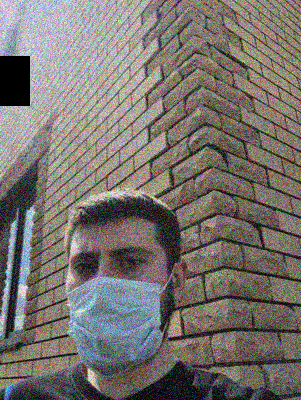with_mask: (67, 235, 171, 380)
